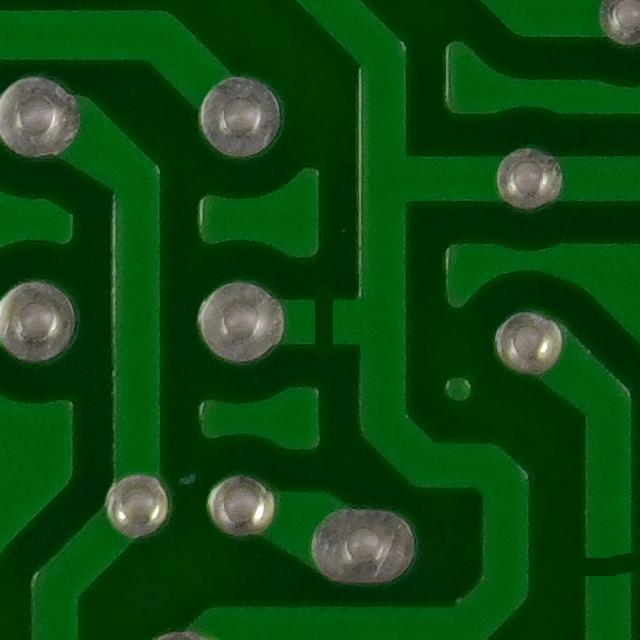open_circuit: (294, 280, 347, 361)
